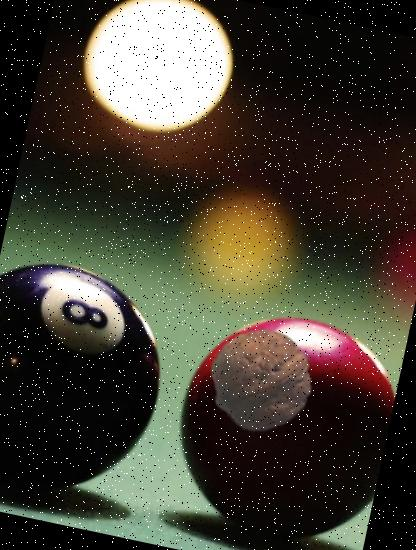Walnut: (198, 318, 324, 442)
